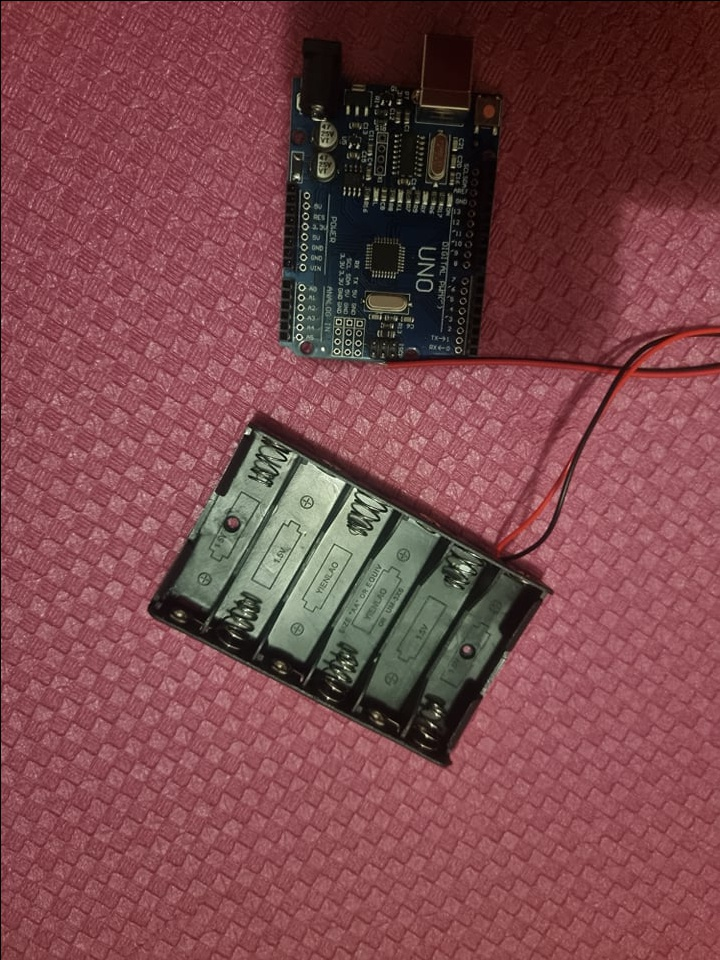BATTERY BOX: (146, 418, 549, 770)
UNO R3: (277, 18, 501, 364)
